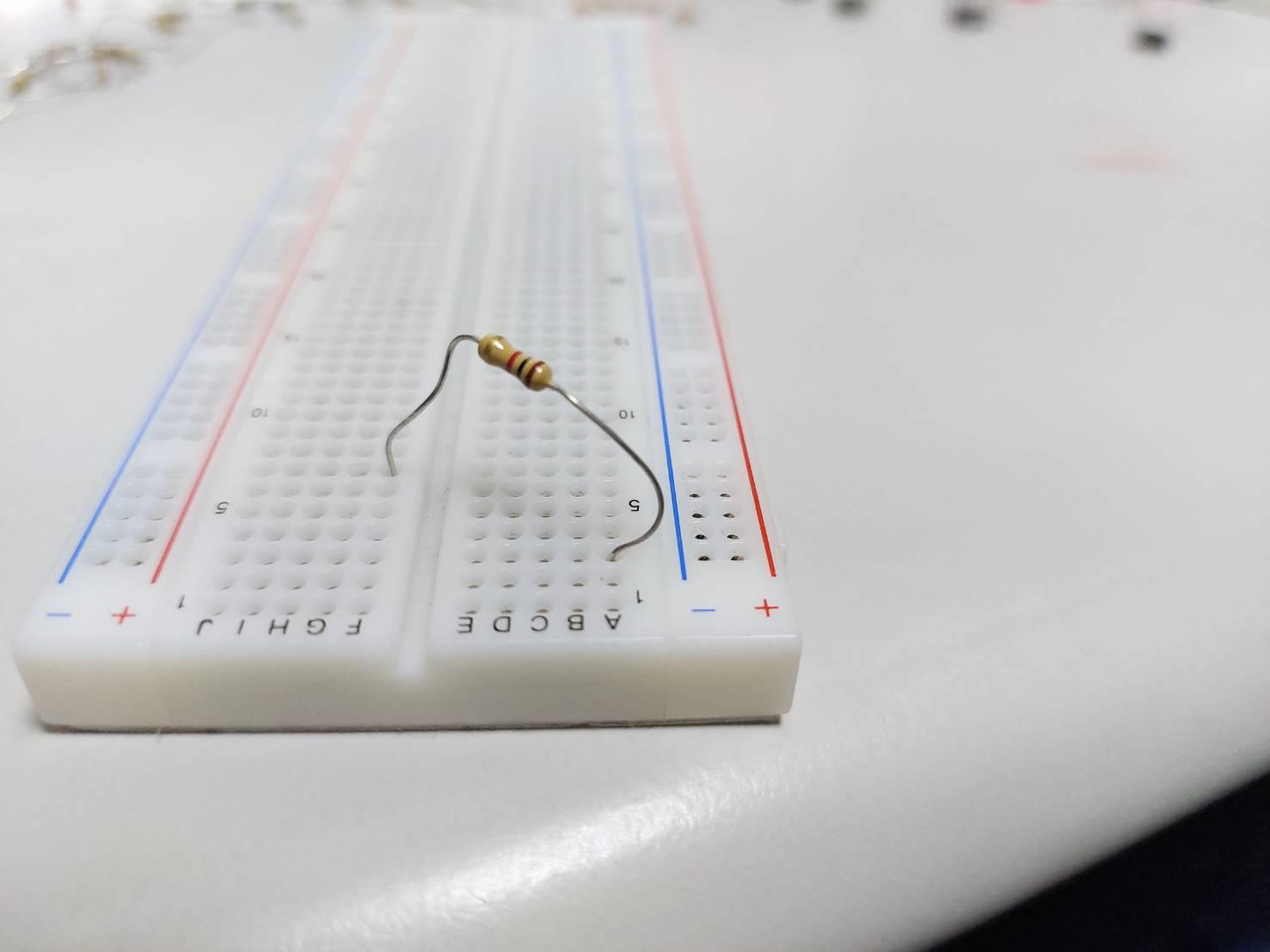resistor: (479, 332, 552, 391)
